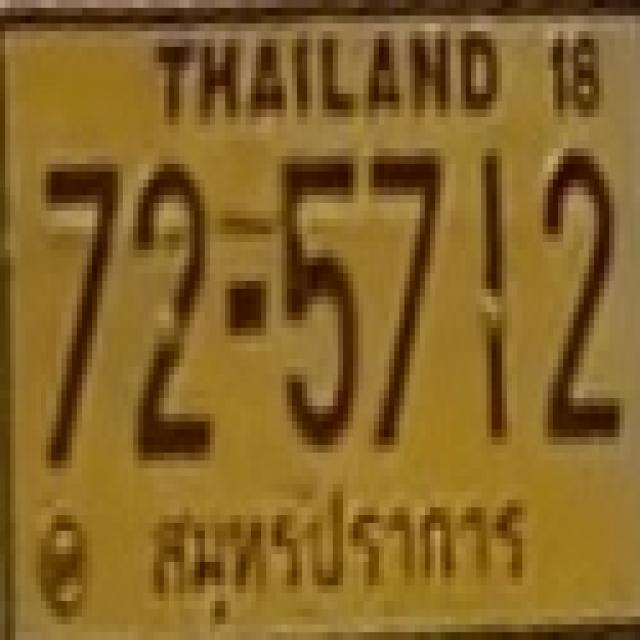1: (479, 144, 504, 433)
2: (130, 160, 214, 466), (540, 148, 624, 437)
5: (276, 148, 354, 445)
7: (41, 156, 118, 461), (366, 148, 438, 445)
SPK: (138, 487, 539, 628)
